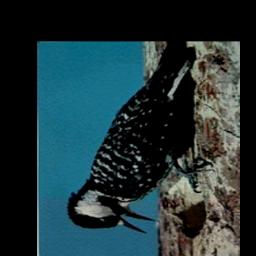Woodpecker: (60, 43, 215, 238)
